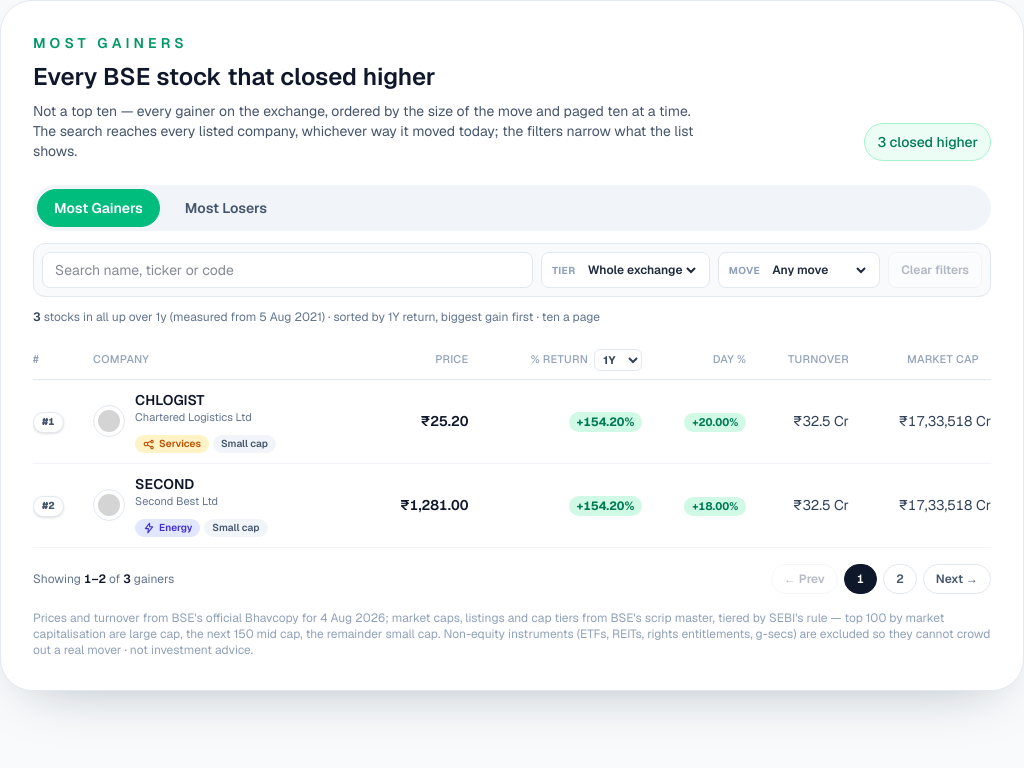
BseMoversBoard › ranks over one month, the shortest window it offers
Check: the text "CHLOGIST" is shown, box [135, 391, 204, 409]
Select "1M" in the dropdown named "Return period" at (618, 360), box [594, 349, 642, 371]
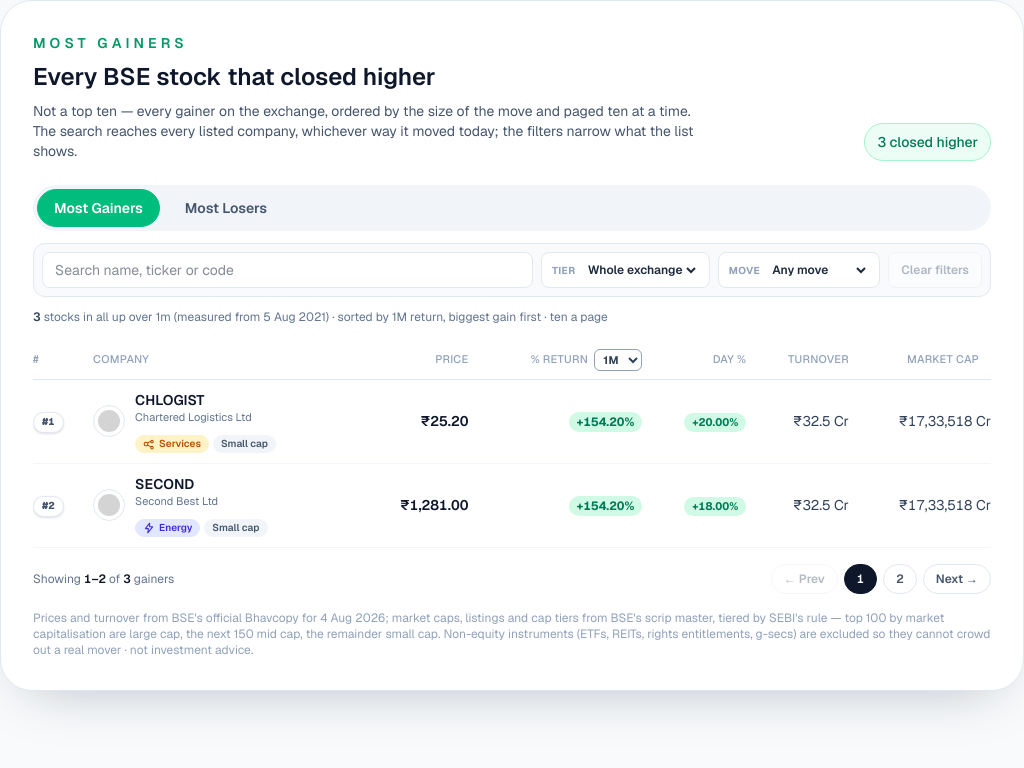
Check: the text "sorted by 1M return, biggest gain first" is shown, box [33, 309, 608, 325]
